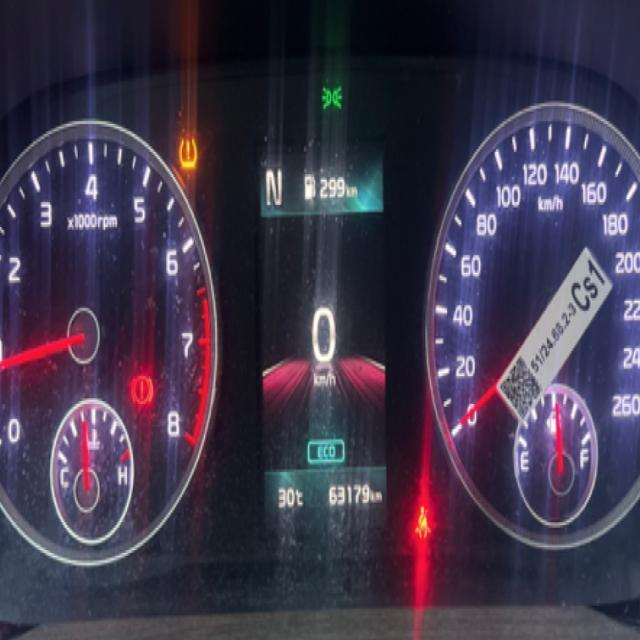Seat Belt: (414, 503, 433, 542)
